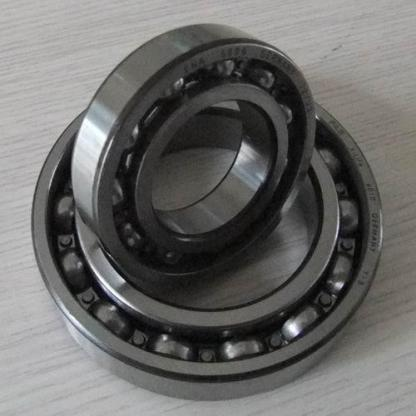FOD: (25, 72, 388, 404), (71, 27, 317, 280)
